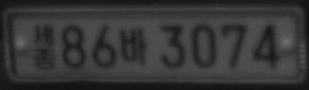0: (191, 23, 217, 69)
3: (160, 24, 186, 68)
4: (252, 23, 281, 68)
6: (91, 26, 117, 68)
7: (221, 23, 246, 68)
8: (60, 23, 87, 68)
바: (119, 28, 148, 66)
세종_V: (31, 24, 56, 69)
